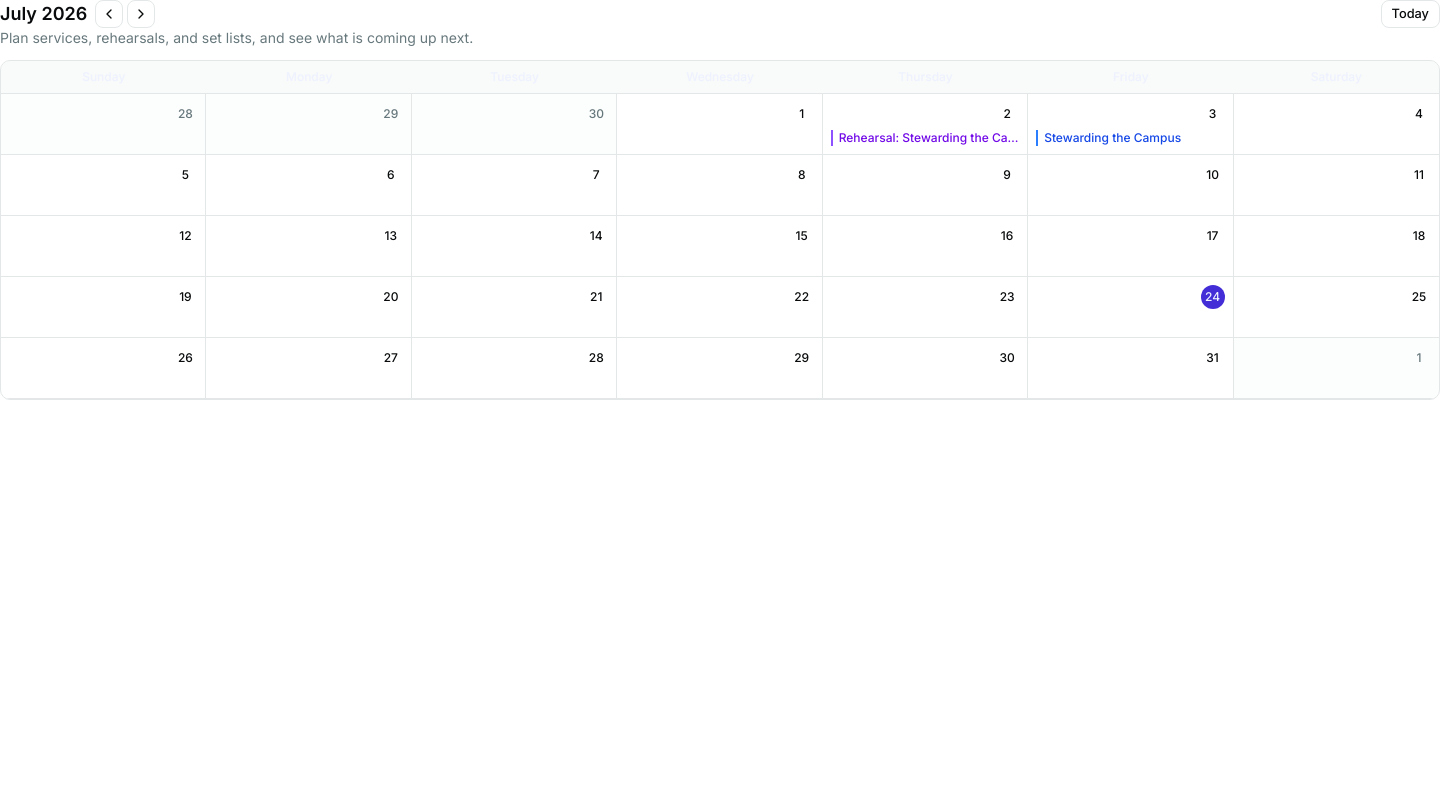
Scenario: ScheduleCalendar › opens a popover with the lineup's team roster and set list, and a link to its full page, when an event is clicked
Click the button "Stewarding the Campus" at [1130, 138], box left=1036, top=130, right=1224, bottom=146
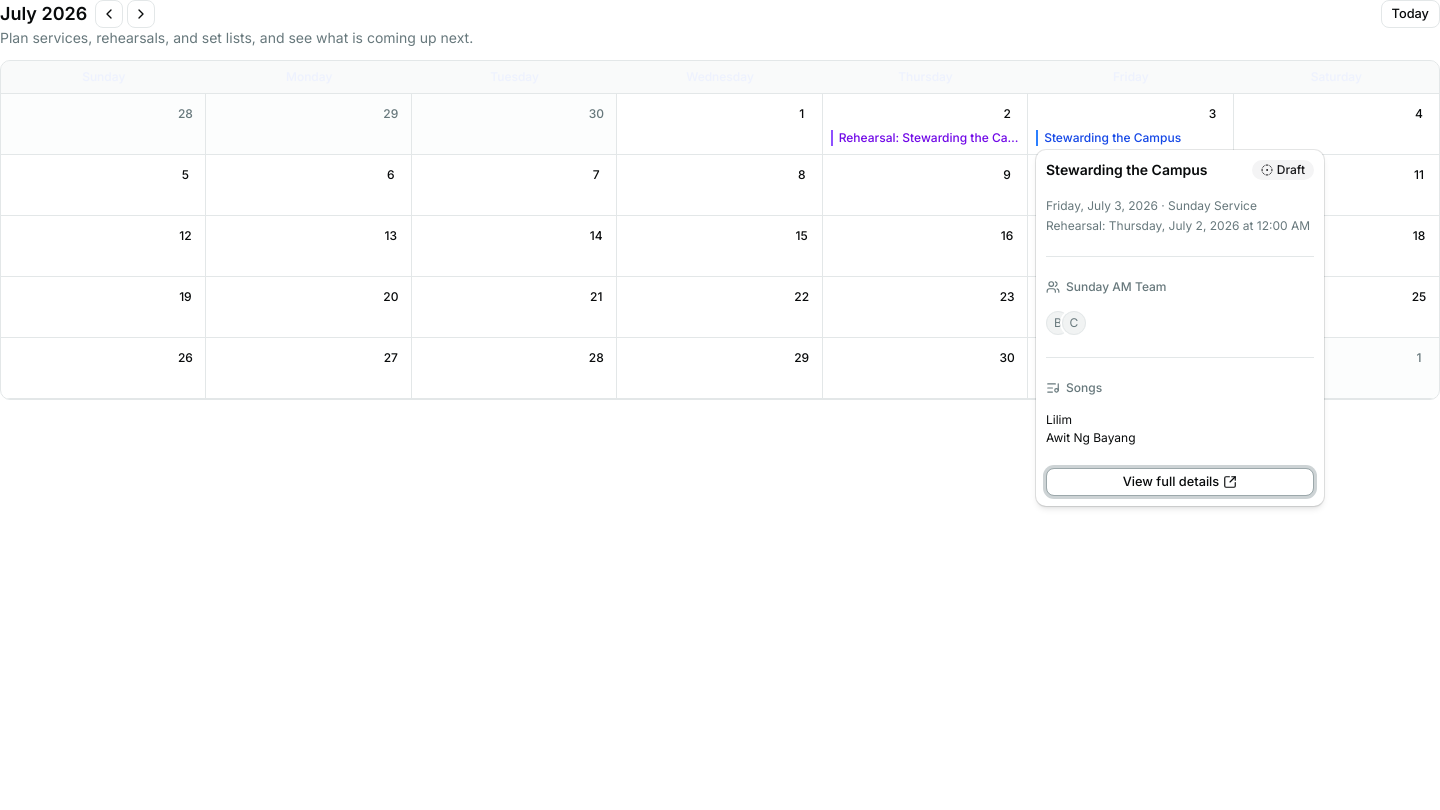
Now the text "Sunday AM Team" is shown, box left=1046, top=279, right=1166, bottom=294
Now the list item "Lilim" is shown, box left=1046, top=412, right=1072, bottom=427
Now the list item "Awit Ng Bayang" is shown, box left=1046, top=430, right=1136, bottom=445
